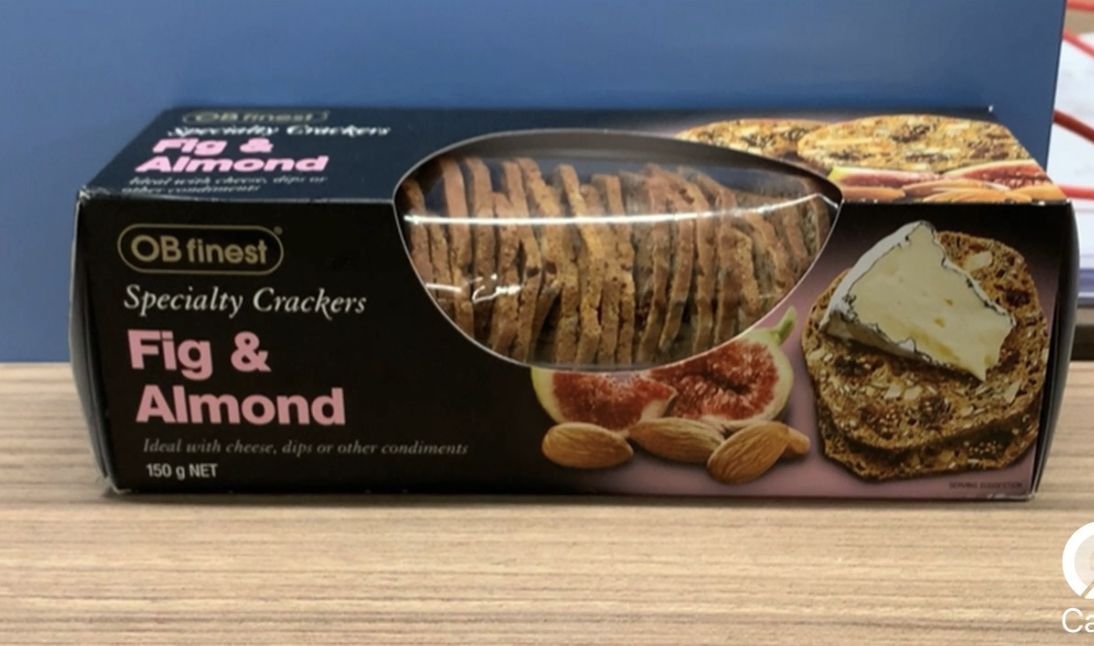crackers_150g: (110, 209, 1036, 492)
